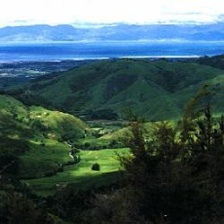neutral: (2, 15, 224, 222)
